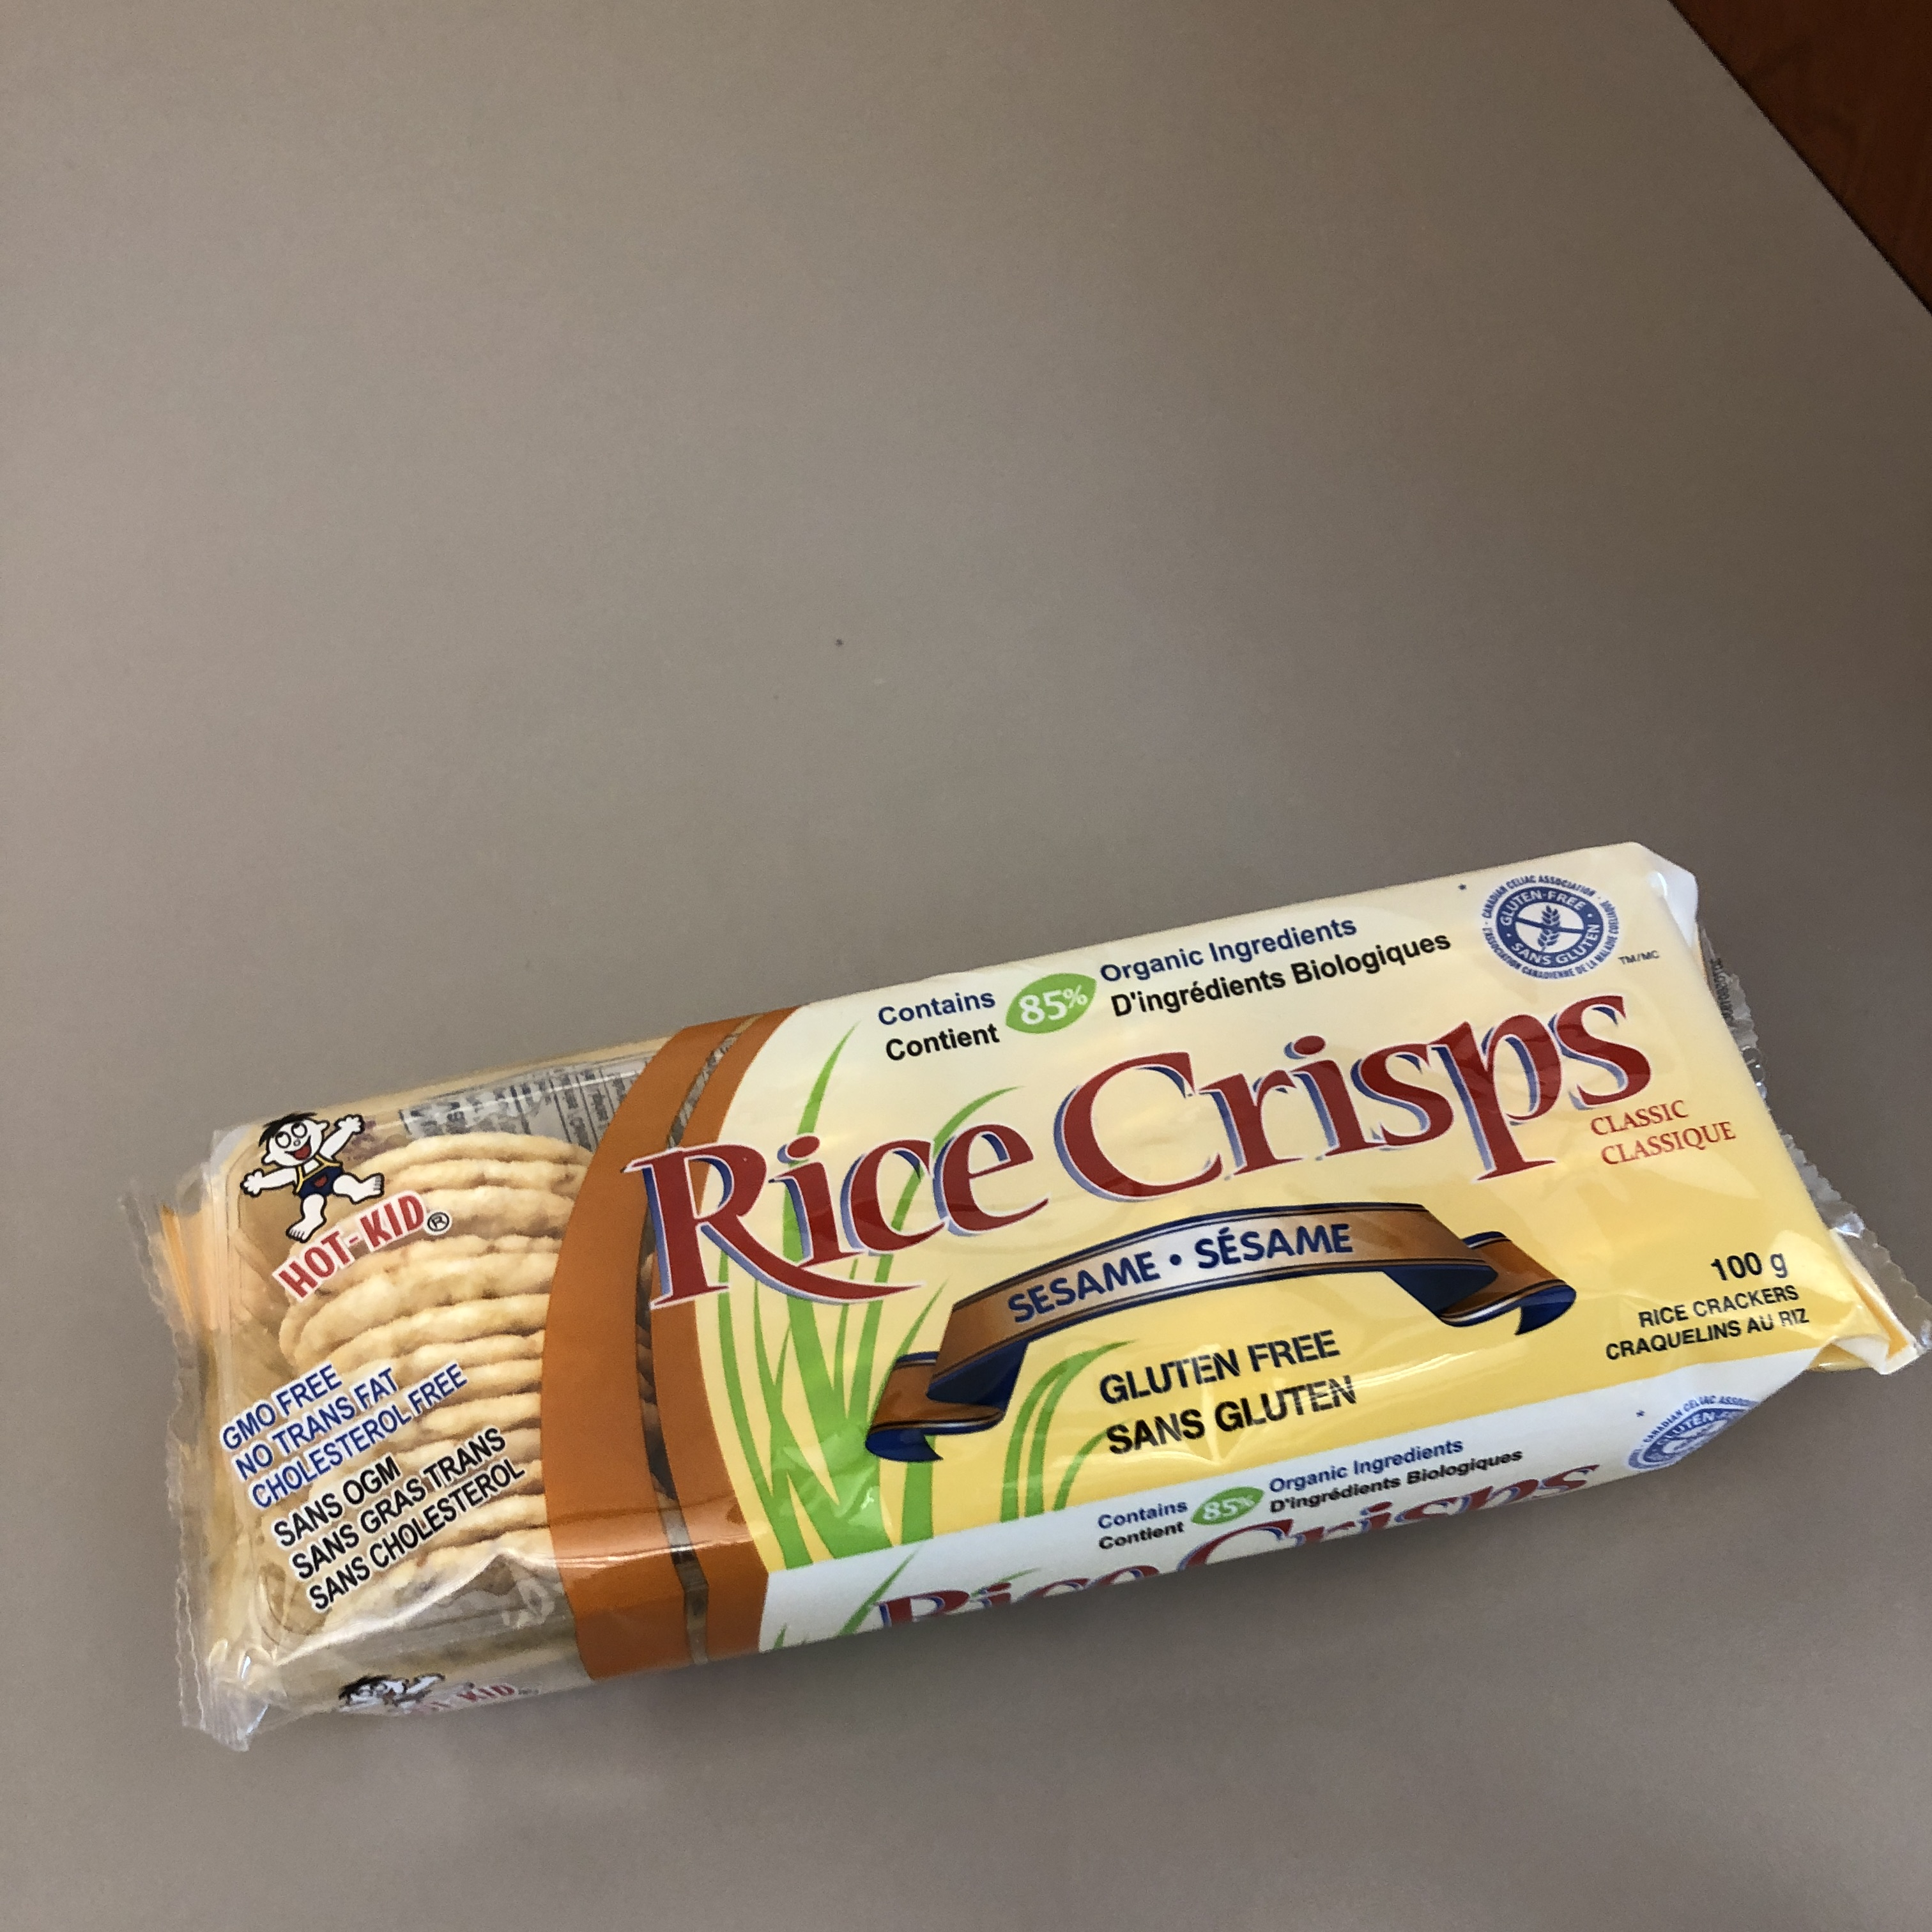hot_kid_rice_crisps_sesame: (217, 195, 1068, 1705)
